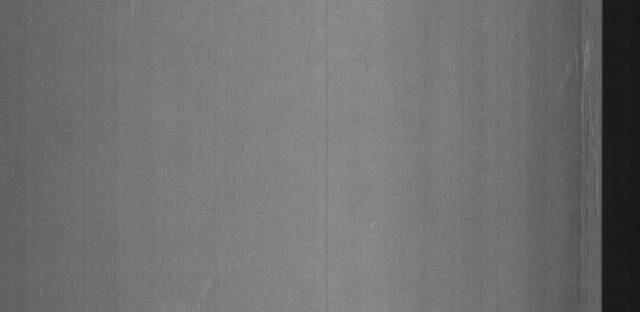silk_spot: (550, 35, 602, 113)
